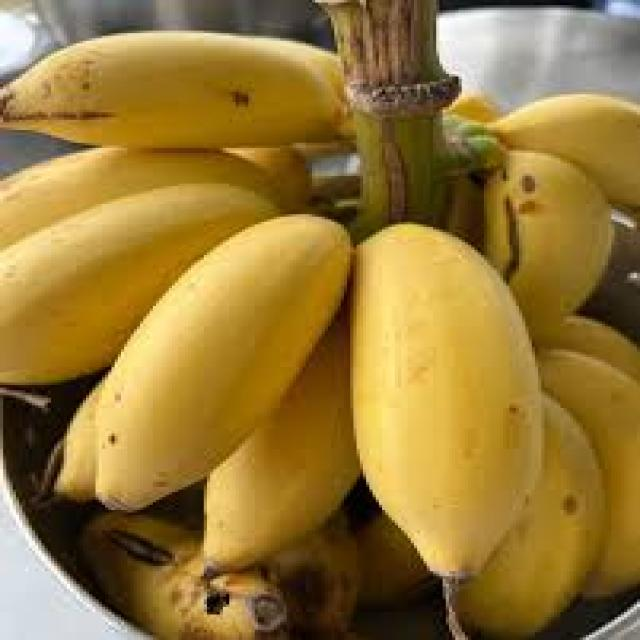Banana: (94, 215, 351, 511), (354, 224, 540, 574), (0, 184, 277, 384), (203, 303, 361, 571), (2, 33, 343, 148), (459, 396, 604, 638), (0, 147, 304, 247), (485, 150, 610, 344), (542, 349, 640, 596)
